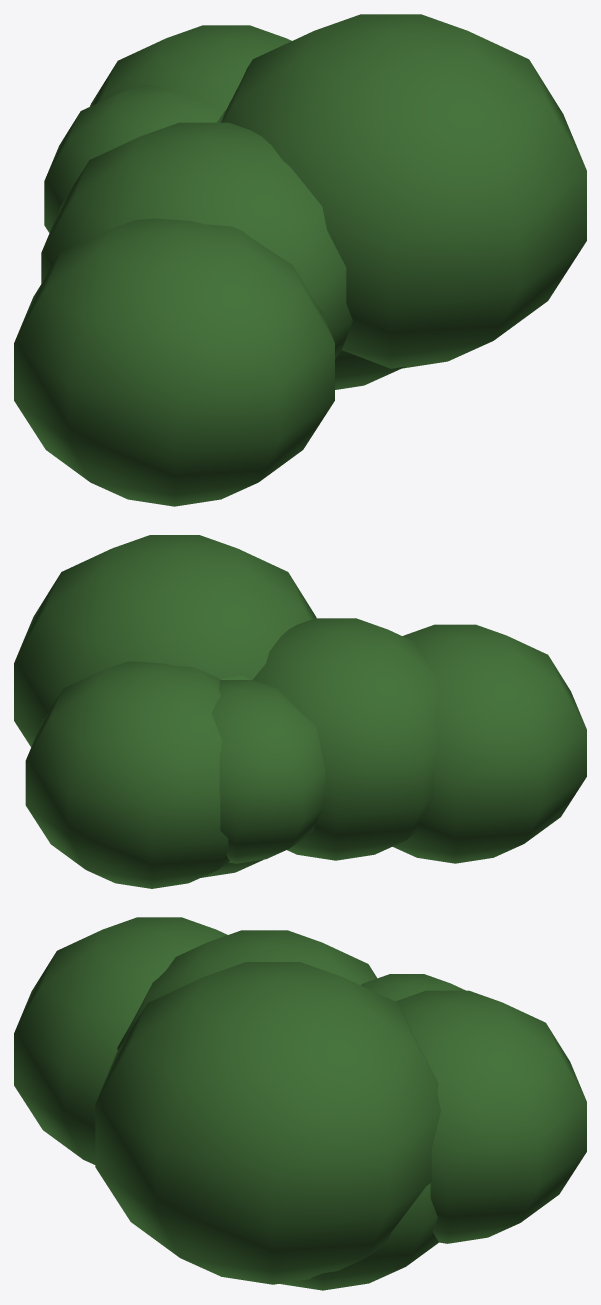
The model's file is bush-1.glb.
3 views of the same model, one above another, from view 1: azimuth 30°, elevation 25°; view 2: azimuth 150°, elevation 25°; view 3: azimuth 270°, elevation 25° (orthographic). The views are drawn at different scales.
Visible parts, largest first — view 1: bush-1; view 2: bush-1; view 3: bush-1.
Boxes of the visible parts, <box> form: bush-1: <box>14,14,586,506</box>; bush-1: <box>14,535,586,888</box>; bush-1: <box>14,917,586,1290</box>.
Size of the model in its own units: 1.97 by 1.12 by 1.85.
